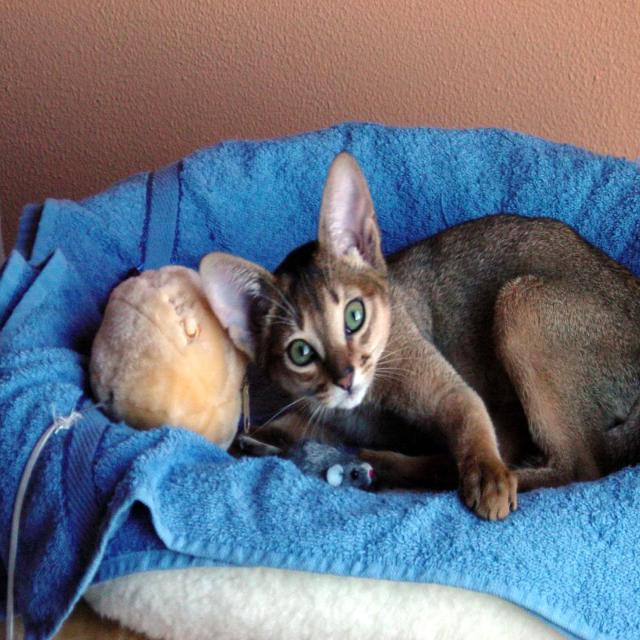Abyssinian: (196, 143, 640, 527)
